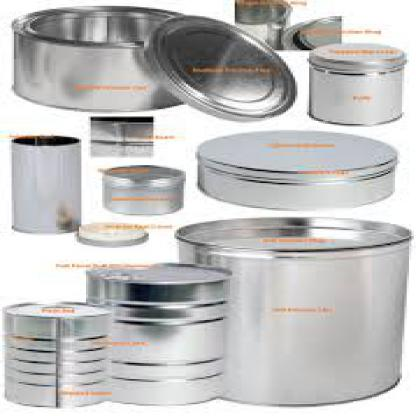METAL: (174, 216, 409, 402), (9, 5, 193, 110), (86, 264, 223, 404), (195, 128, 395, 210), (142, 15, 295, 118), (2, 303, 105, 407), (305, 41, 402, 124), (9, 134, 79, 233), (100, 164, 181, 215), (233, 0, 290, 50), (277, 16, 339, 49), (74, 221, 146, 245)
